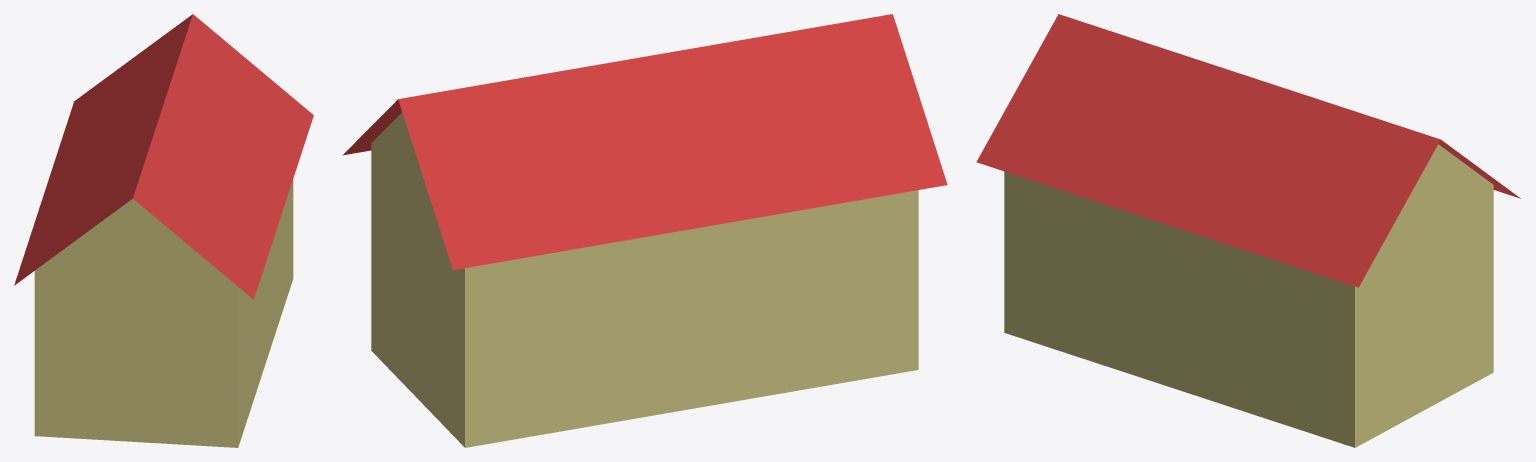
The picture shows the model from 3 angles, left to right: view 1: azimuth 30°, elevation 25°; view 2: azimuth 150°, elevation 25°; view 3: azimuth 270°, elevation 25°; orthographic projection. The views are drawn at different scales.
Bounding box in the file's own units: 18.93 × 20.37 × 11.36.
